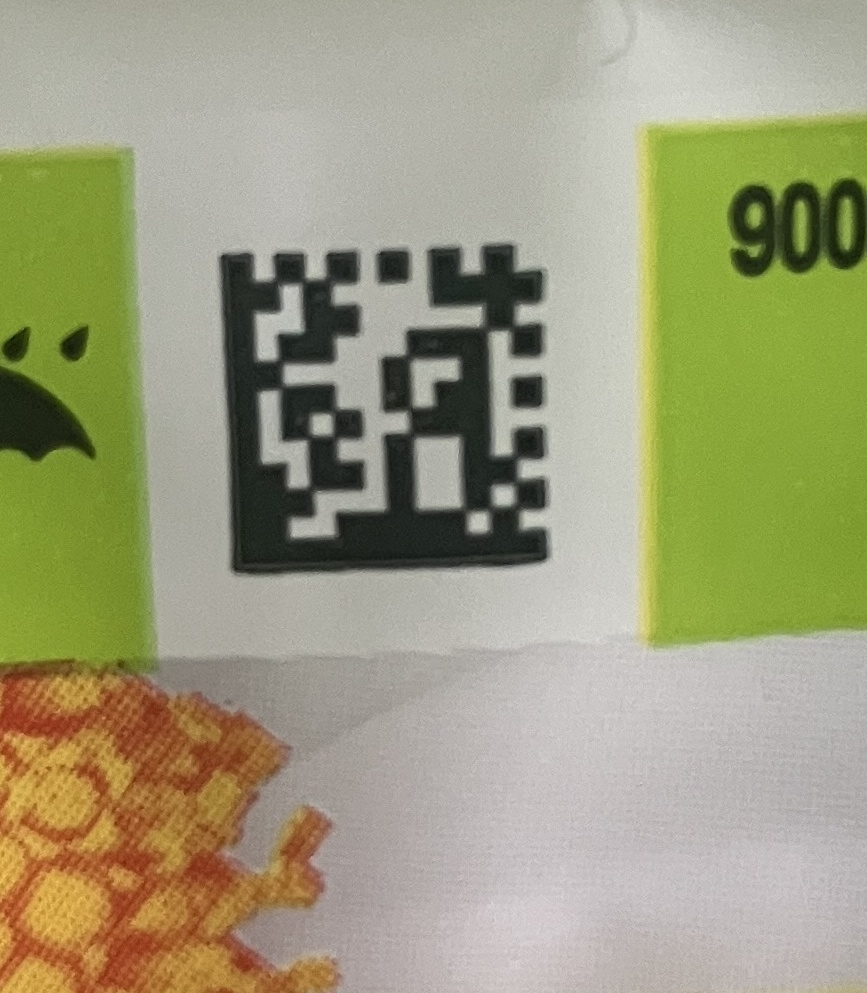2d: (218, 241, 549, 572)
